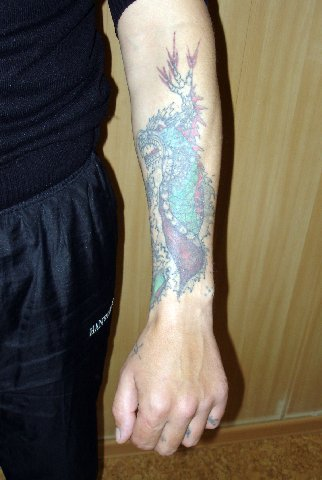tatu6_drakon: (125, 26, 219, 298)
